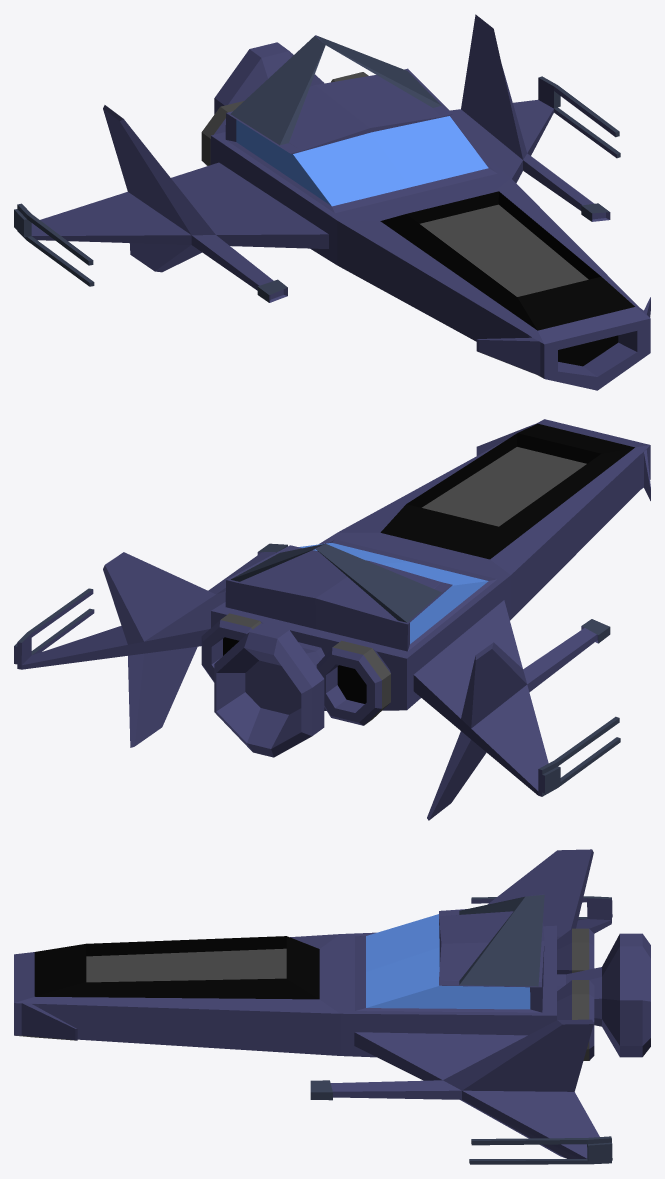
File: NebulaDrifter999.fbx
3 renders of one model, top to bottom at view 1: azimuth 30°, elevation 25°; view 2: azimuth 150°, elevation 25°; view 3: azimuth 270°, elevation 25°, orthographic. The views are drawn at different scales.
Parts seen in each view (by area): view 1: NebulaDrifter999; view 2: NebulaDrifter999; view 3: NebulaDrifter999.
Boxes of the visible parts, x1,y1,x2,y2 form: NebulaDrifter999: [14, 14, 650, 390]; NebulaDrifter999: [14, 419, 650, 820]; NebulaDrifter999: [14, 849, 650, 1164].
Size of the model in its own units: 14.43 by 5.37 by 15.76.
